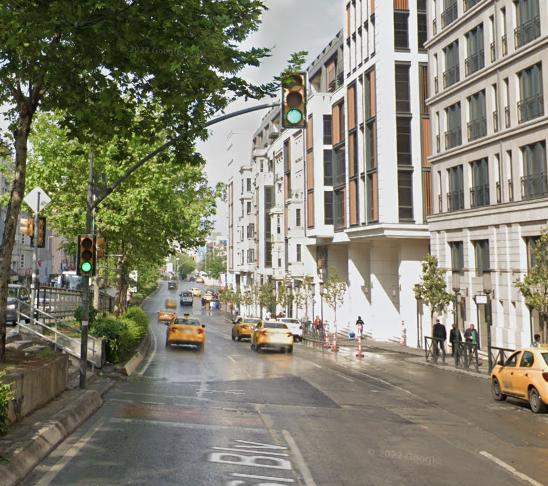greenlight: (282, 71, 307, 127), (78, 235, 96, 273)
